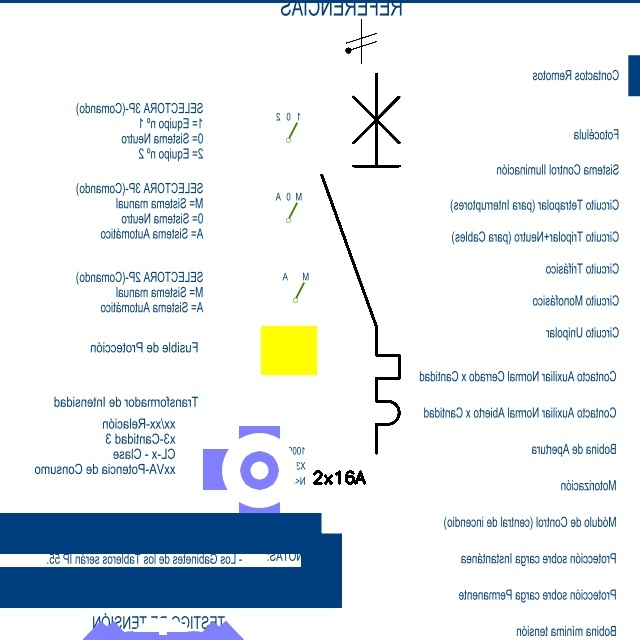interruptor_termomagnetico: (312, 64, 409, 463)
